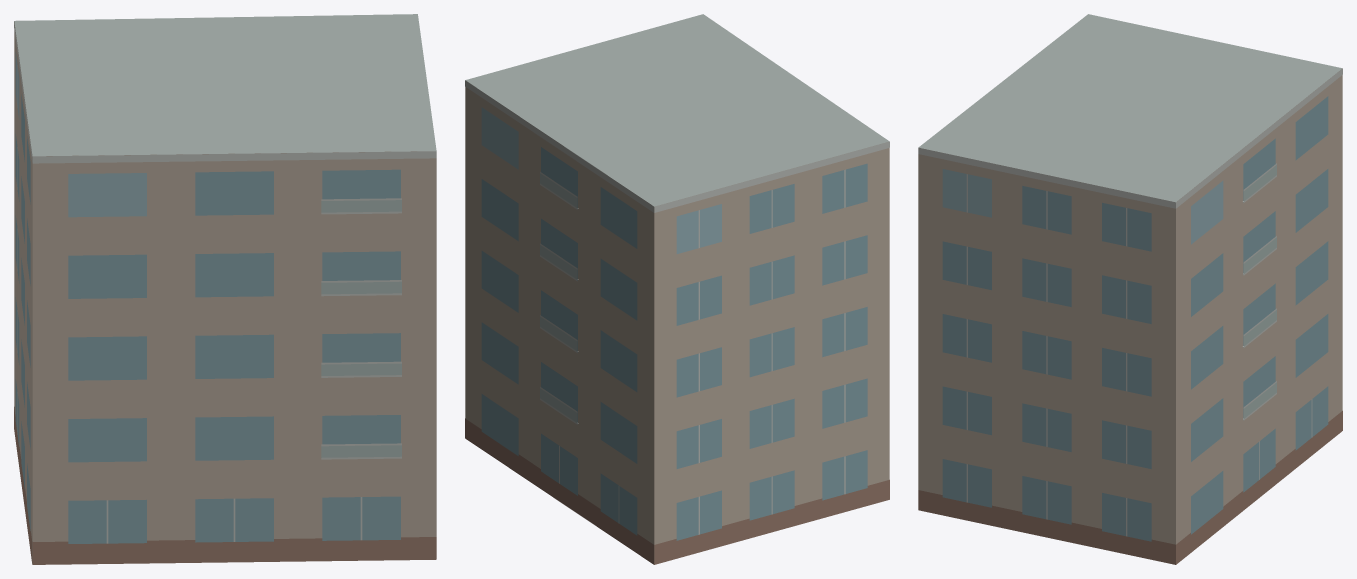
File: survey-upis-32892551.glb
3 renders of one model, left to right at view 1: azimuth 30°, elevation 25°; view 2: azimuth 150°, elevation 25°; view 3: azimuth 270°, elevation 25°, orthographic. The views are drawn at different scales.
Parts seen in each view (by area): view 1: survey-upis-32892551.tmp; view 2: survey-upis-32892551.tmp; view 3: survey-upis-32892551.tmp.
Part boxes in pixels (x1=…): survey-upis-32892551.tmp: x1=14, y1=14, x2=436, y2=564; survey-upis-32892551.tmp: x1=465, y1=14, x2=889, y2=564; survey-upis-32892551.tmp: x1=918, y1=14, x2=1342, y2=564.
Size of the model in its own units: 15.27 by 13.7 by 14.54.
